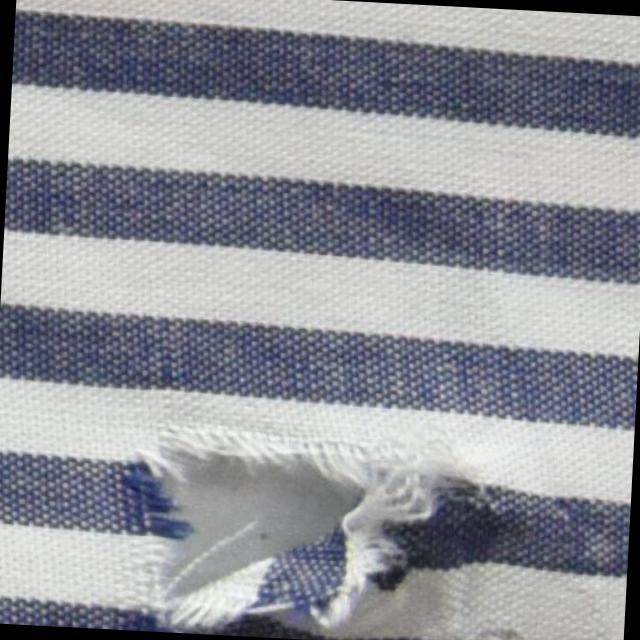cut: (126, 410, 468, 640)
